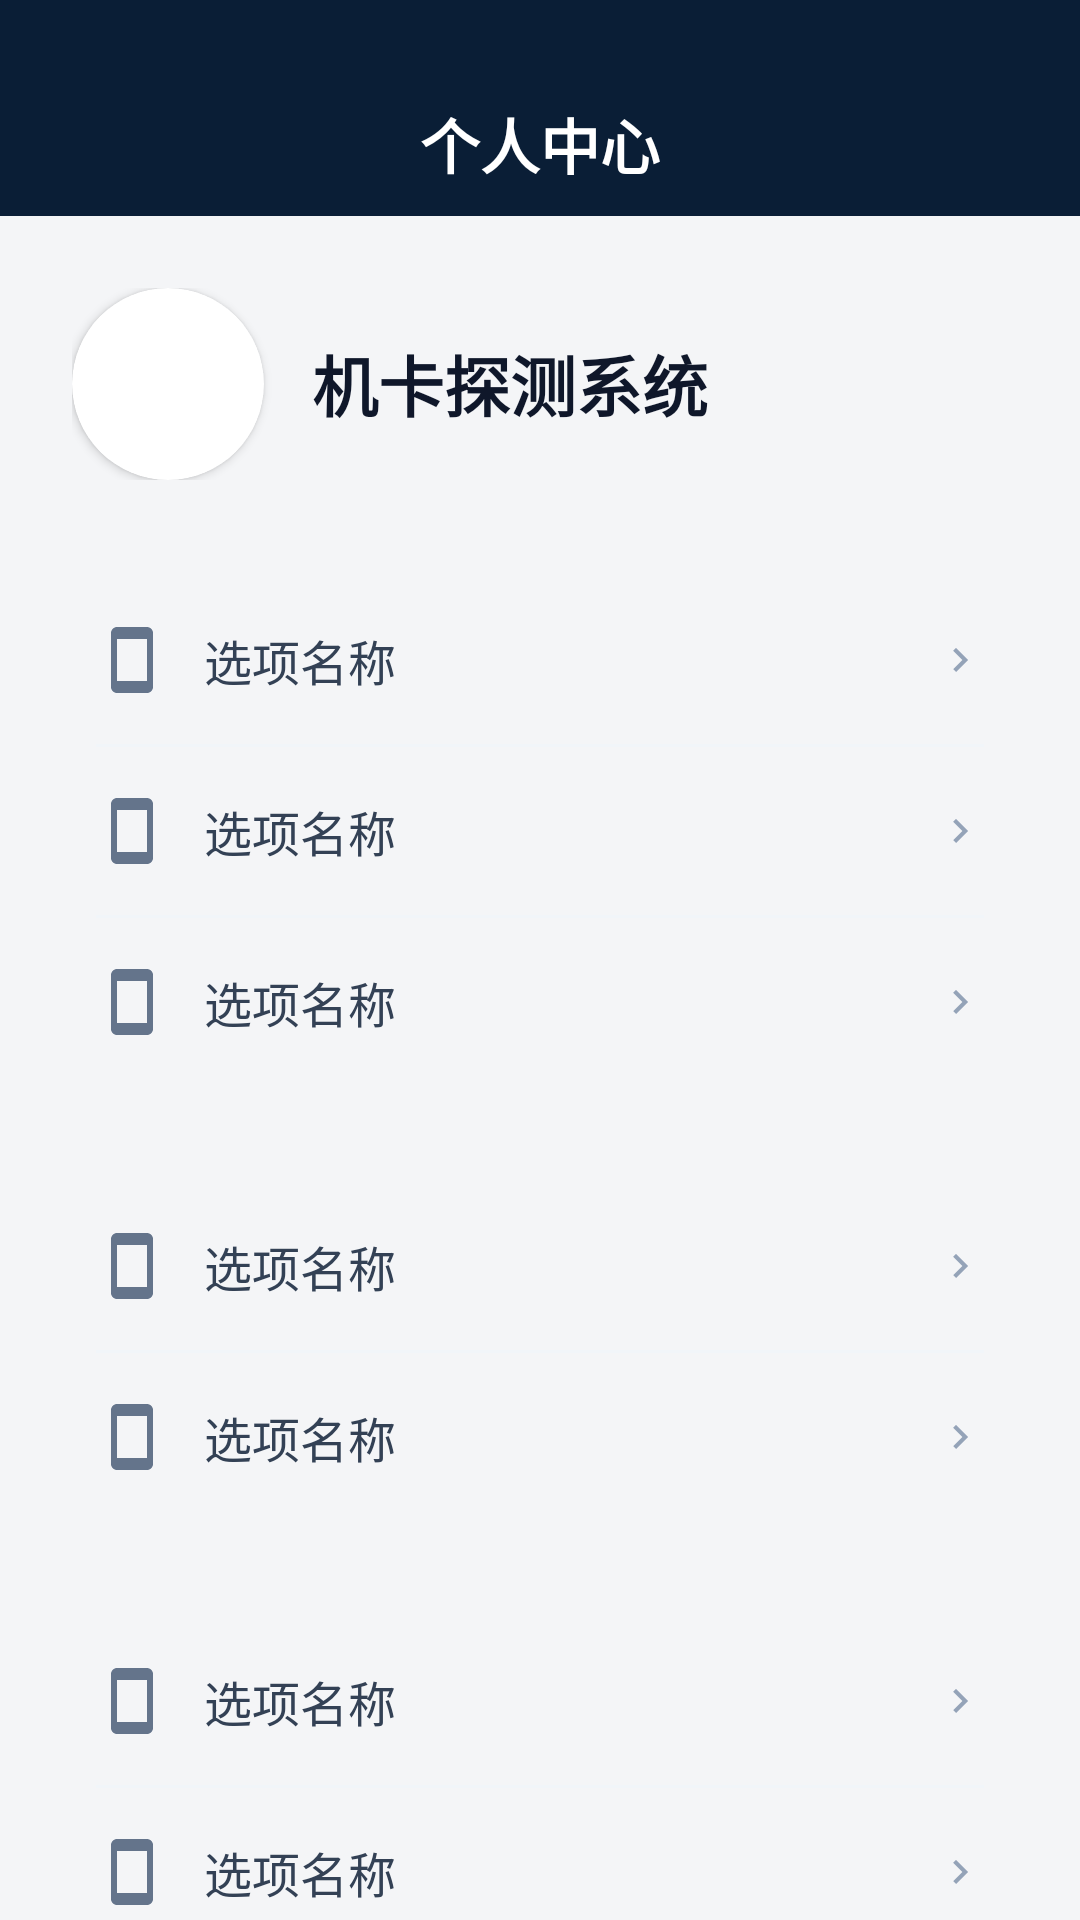

Icons on this 1080*1920 Android screen, each with its box as box=[x1, y1, x2, y2]:
arrow right: box=[953, 648, 968, 672], box=[953, 819, 968, 843], box=[953, 990, 968, 1014], box=[953, 1254, 968, 1278], box=[953, 1425, 968, 1449], box=[953, 1689, 968, 1713], box=[953, 1860, 968, 1884]
device model: box=[111, 627, 153, 693], box=[111, 798, 153, 864], box=[111, 969, 153, 1035], box=[111, 1233, 153, 1299], box=[111, 1404, 153, 1470], box=[111, 1668, 153, 1734], box=[111, 1839, 153, 1905]
